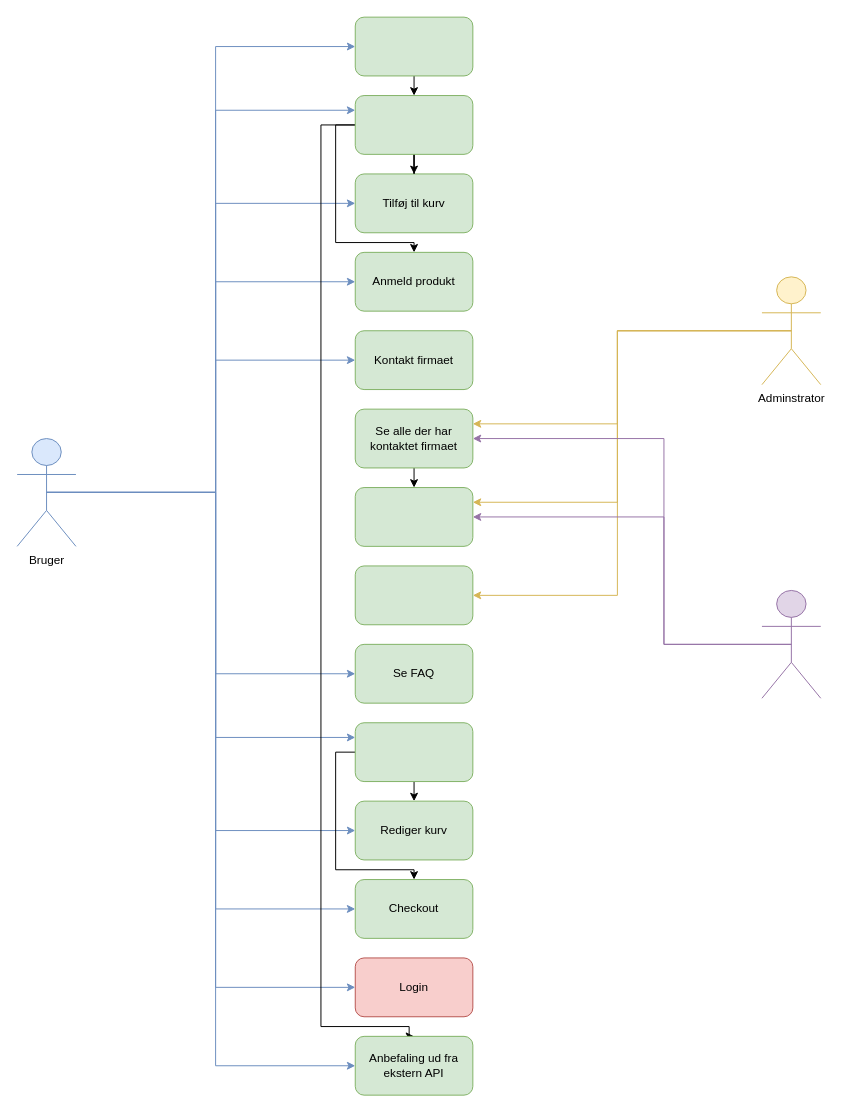
This 842x1112 diagram has some shape labels left out. Each missing label, with the box of its shape:
Færdighåndtering af enkelt kontakt: (354, 487, 473, 546)
Opret produkt: (354, 565, 473, 625)
Se alle produkter: (354, 16, 473, 76)
Se enkelt produkt: (354, 95, 473, 154)
Se kurv: (354, 722, 473, 782)
Sælger: (761, 589, 821, 698)
